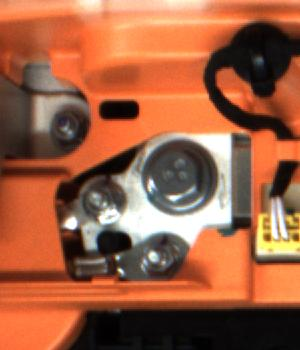nut_b: (138, 133, 217, 215)
